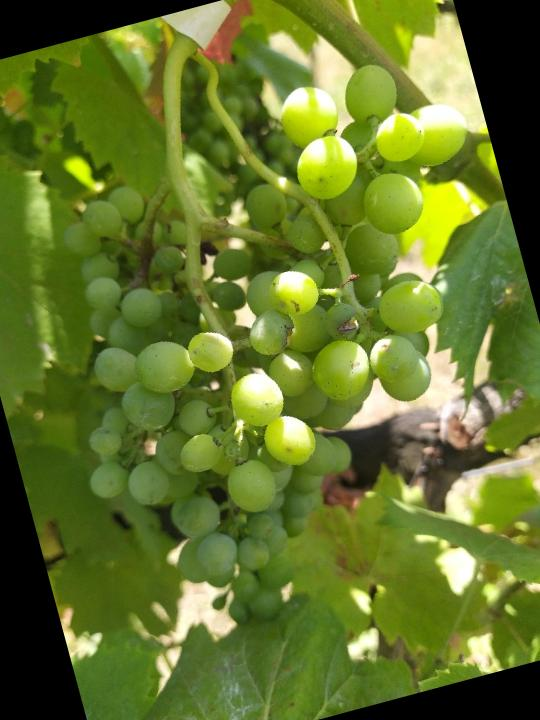grape: (2, 42, 540, 657)
